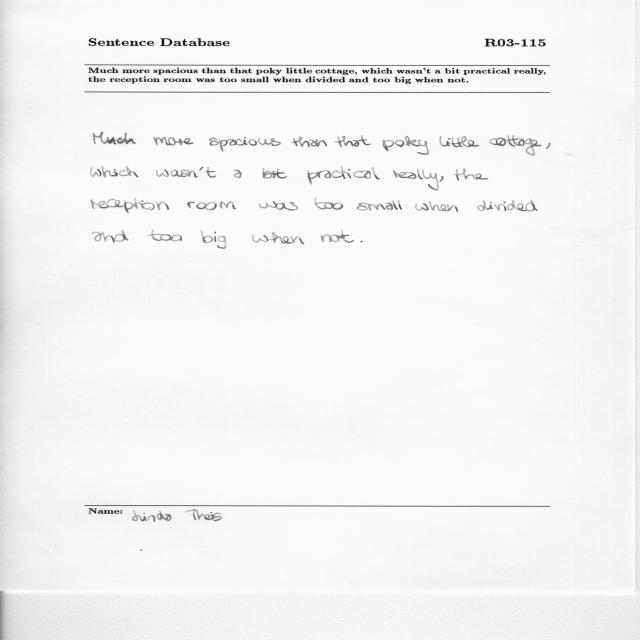word: (307, 167, 380, 185), (490, 135, 542, 156), (91, 199, 169, 213), (393, 169, 439, 191), (209, 137, 281, 151), (383, 136, 429, 155), (477, 200, 538, 212), (156, 167, 216, 178), (252, 232, 304, 244), (91, 167, 139, 178), (93, 132, 136, 144), (356, 200, 402, 211), (415, 201, 458, 212), (454, 168, 488, 181), (187, 201, 236, 210), (440, 136, 480, 147), (335, 135, 371, 147), (259, 201, 299, 211), (153, 137, 194, 146), (321, 232, 354, 243), (291, 137, 327, 147), (95, 232, 128, 242), (201, 232, 226, 245), (315, 199, 344, 210), (148, 232, 182, 241), (263, 168, 287, 179), (233, 170, 242, 178), (439, 176, 444, 182), (546, 143, 550, 149), (361, 241, 363, 242)
